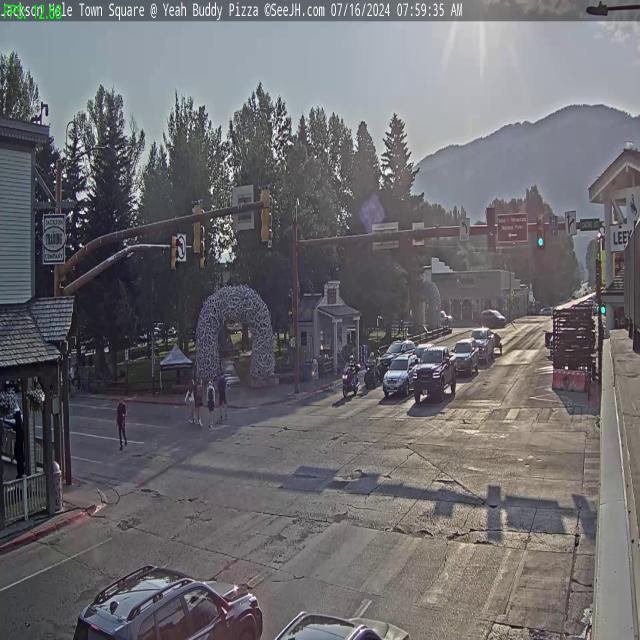motorcycle: (341, 358, 360, 396), (365, 355, 381, 388)
person: (116, 396, 127, 451), (215, 370, 226, 423), (186, 378, 195, 428), (191, 377, 200, 427), (207, 377, 215, 424)
pickup: (414, 346, 456, 404), (470, 326, 494, 360)
suv: (70, 560, 266, 640), (382, 352, 416, 397), (452, 338, 478, 375), (382, 340, 413, 368)
traffic light: (260, 184, 272, 243), (191, 199, 203, 256), (486, 208, 497, 252), (170, 234, 178, 274), (537, 214, 546, 248)
